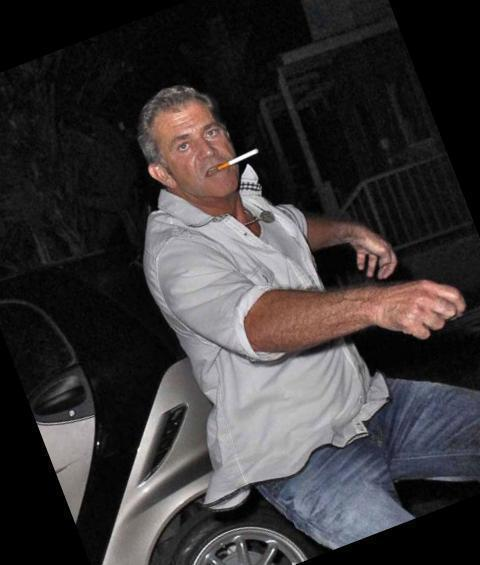Drunk: (155, 109, 235, 194)
